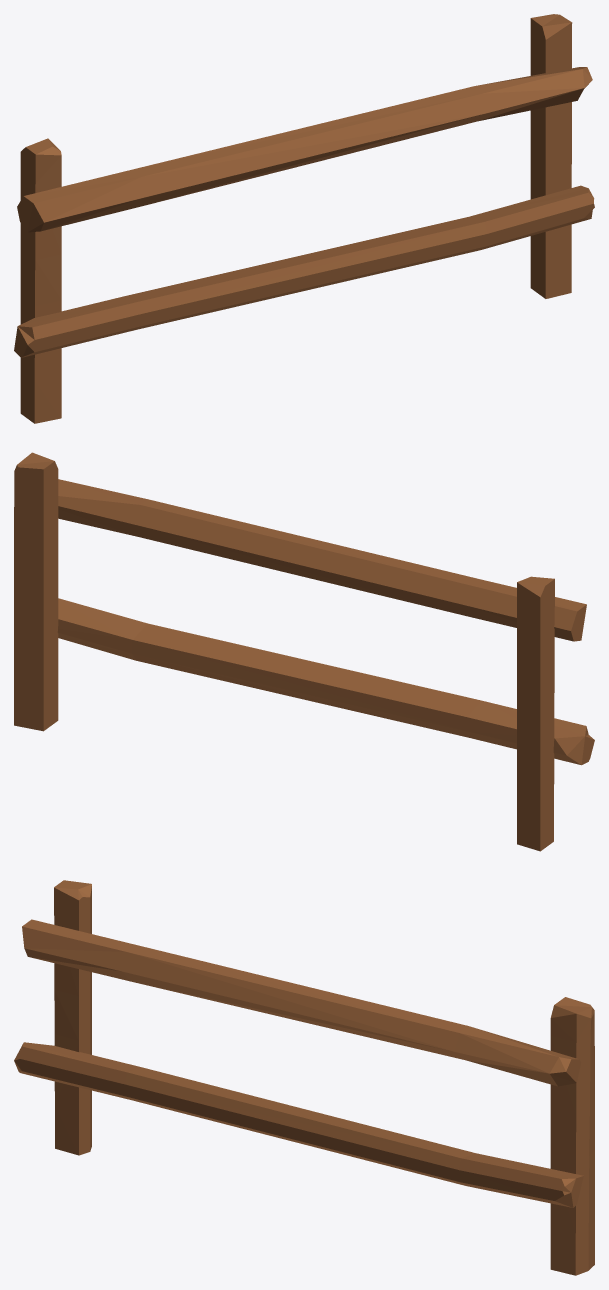
The model's file is CampGround_Fence_01.fbx.
The picture shows the model from 3 angles, top to bottom: view 1: azimuth 30°, elevation 25°; view 2: azimuth 150°, elevation 25°; view 3: azimuth 330°, elevation 25°; orthographic projection. The views are drawn at different scales.
Parts seen in each view (by area): view 1: SM_Campground_Fence_01.mo; view 2: SM_Campground_Fence_01.mo; view 3: SM_Campground_Fence_01.mo.
Part boxes in pixels (x1=…): SM_Campground_Fence_01.mo: x1=14, y1=14, x2=594, y2=423; SM_Campground_Fence_01.mo: x1=14, y1=452, x2=594, y2=851; SM_Campground_Fence_01.mo: x1=14, y1=880, x2=594, y2=1275.
Bounding box in the file's own units: 221 × 100 × 24.95.
